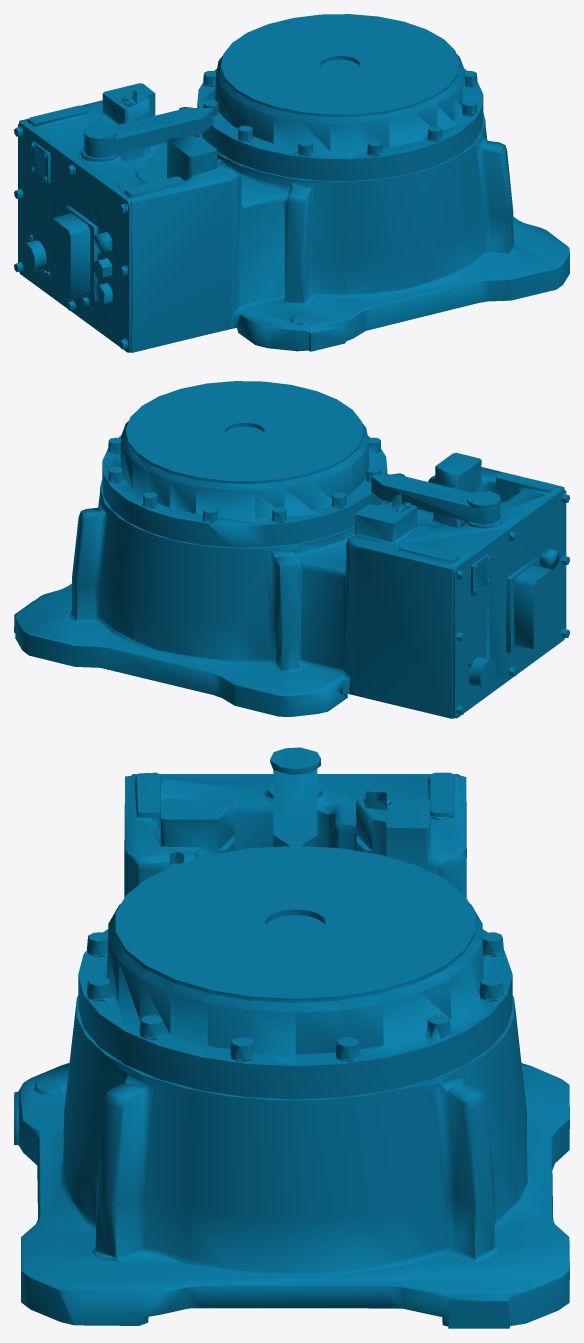
3 renders of one model, top to bottom at view 1: azimuth 30°, elevation 25°; view 2: azimuth 150°, elevation 25°; view 3: azimuth 270°, elevation 25°, orthographic. The views are drawn at different scales.
Visible parts, largest first — view 1: gp20hl_base; view 2: gp20hl_base; view 3: gp20hl_base.
Boxes of the visible parts, bbox=[...] form: gp20hl_base: bbox=[14, 14, 569, 352]; gp20hl_base: bbox=[14, 381, 569, 718]; gp20hl_base: bbox=[14, 747, 569, 1328].
Bounding box in the file's own units: 0.6449 × 0.4544 × 0.2591.
